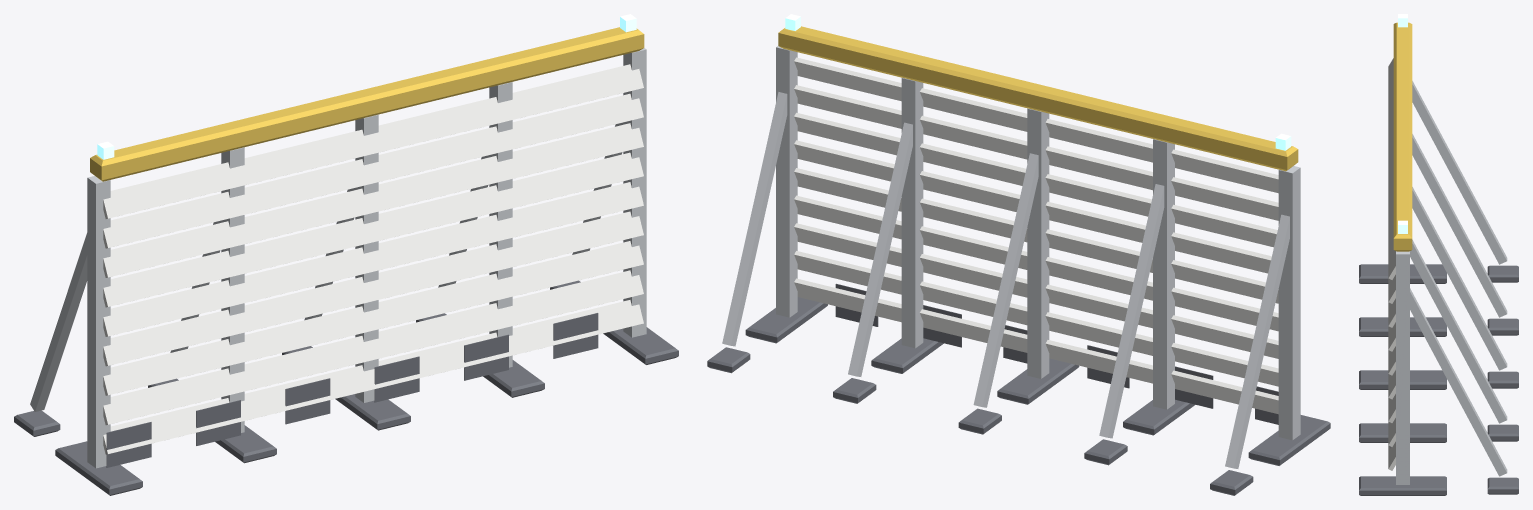
Rendered from blastfence.glb.
The picture shows the model from 3 angles, left to right: view 1: azimuth 30°, elevation 25°; view 2: azimuth 150°, elevation 25°; view 3: azimuth 270°, elevation 25°; orthographic projection. The views are drawn at different scales.
Parts seen in each view (by area): view 1: jet-blast-fence; view 2: jet-blast-fence; view 3: jet-blast-fence.
Boxes of the visible parts, left/top/right/bottom form: jet-blast-fence: left=14, top=14, right=678, bottom=495; jet-blast-fence: left=707, top=14, right=1330, bottom=495; jet-blast-fence: left=1359, top=14, right=1518, bottom=495.
Bounding box in the file's own units: 8.5 × 4.66 × 2.55.
